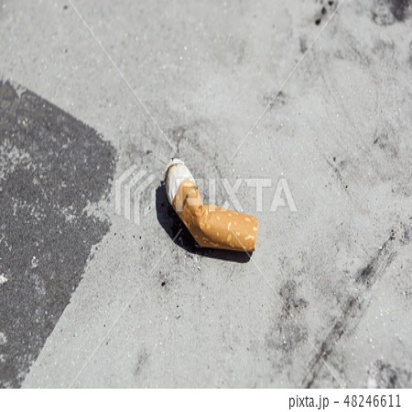cigarette: (149, 155, 262, 268)
